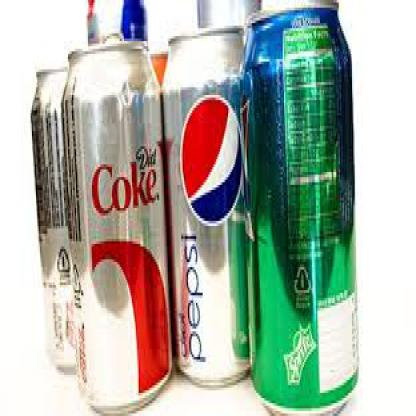METAL: (237, 0, 358, 414), (60, 38, 172, 414), (162, 23, 246, 383), (29, 70, 75, 372), (84, 0, 147, 39), (195, 0, 260, 28), (149, 51, 168, 87)
